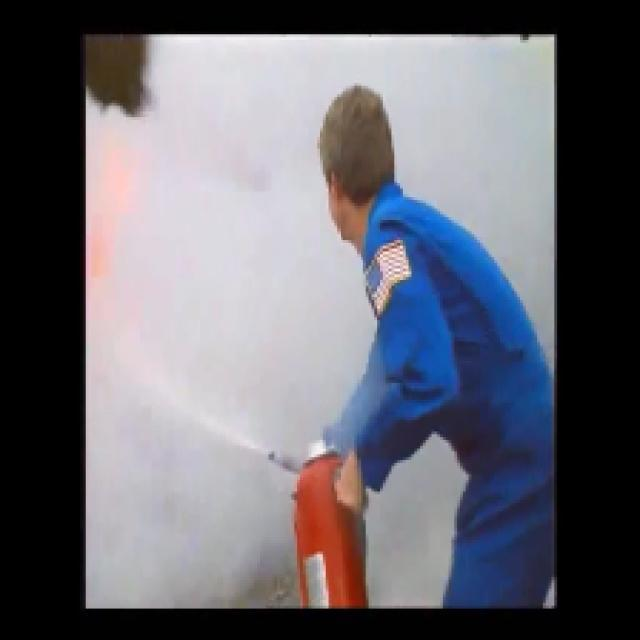Smoke: (86, 111, 294, 583)
